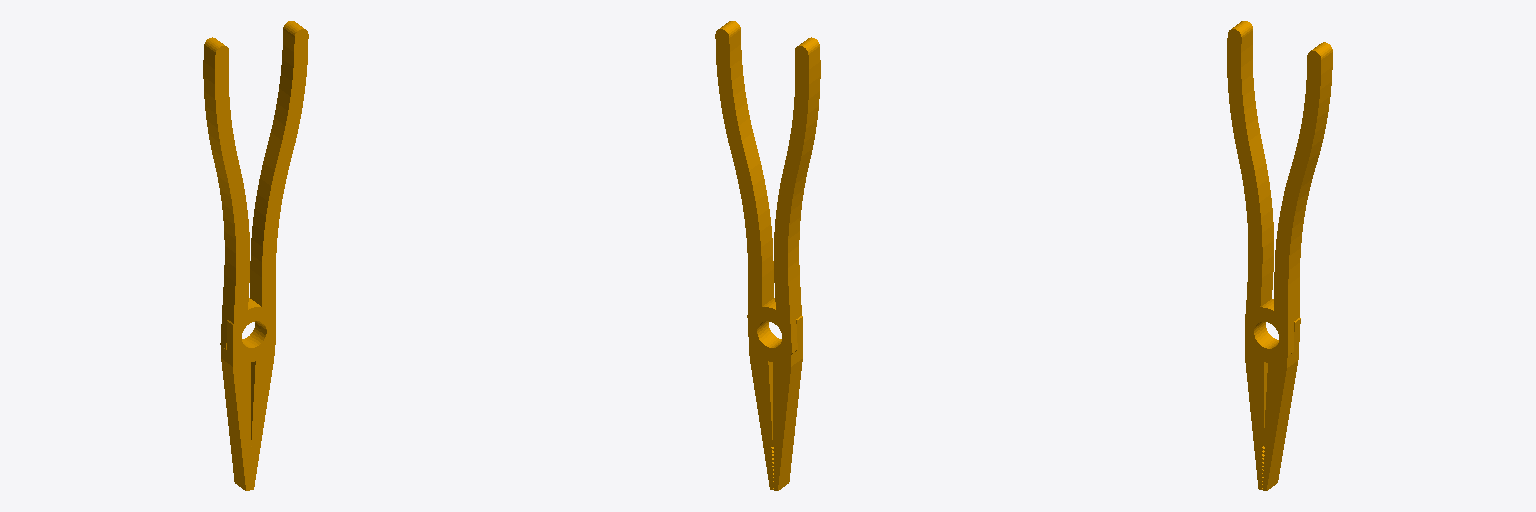
The robot description file, URDF, robot "plier_2_L0.80_T0.80":
<?xml version="1.0" encoding="utf-8"?>
<robot name="plier_2_L0.80_T0.80">
  <link name="plier_2_L0.80_T0.80Link">
    <contact>
      <lateral_friction value="1"/>
    </contact>
    <inertial>
      <origin rpy="0 0 0" xyz="0 0 0"/>
      <mass value="0.0"/>
      <inertia ixx="0" ixy="0" ixz="0" iyy="0" iyz="0" izz="0"/>
    </inertial>
    <visual>
      <origin rpy="0 0 0" xyz="0 0 0"/>
      <geometry>
        <mesh filename="generated_stl/plier/plier_2/plier_2_L0.80_T0.80/plier_2_L0.80_T0.80.stl" scale="0.01 0.01 0.01"/>
      </geometry>
    </visual>
    <collision>
      <origin rpy="0 0 0" xyz="0 0 0"/>
      <geometry>
        <mesh filename="generated_stl/plier/plier_2/plier_2_L0.80_T0.80/plier_2_L0.80_T0.80.stl" scale="0.01 0.01 0.01"/>
      </geometry>
    </collision>
  </link>
</robot>

--- Facts derived from the render (not from the file) ---
Views: 3 orthographic renders of the robot side by side, from view 1: azimuth 30°, elevation 25°; view 2: azimuth 150°, elevation 25°; view 3: azimuth 330°, elevation 25°.
Robot: plier_2_L0.80_T0.80 — 1 links, 0 joints (none); root link plier_2_L0.80_T0.80Link; default pose: all joints at 0.
Visible links, largest first — view 1: plier_2_L0.80_T0.80Link; view 2: plier_2_L0.80_T0.80Link; view 3: plier_2_L0.80_T0.80Link.
Boxes of the visible links, x1,y1,x2,y2 form: plier_2_L0.80_T0.80Link: [203, 21, 308, 490]; plier_2_L0.80_T0.80Link: [715, 21, 820, 490]; plier_2_L0.80_T0.80Link: [1227, 21, 1332, 490].
Size in the robot's own frame: 0.08 by 0.0171 by 0.3686 metres.
1 mesh visuals loaded from 1 distinct referenced files (1 binary STL).